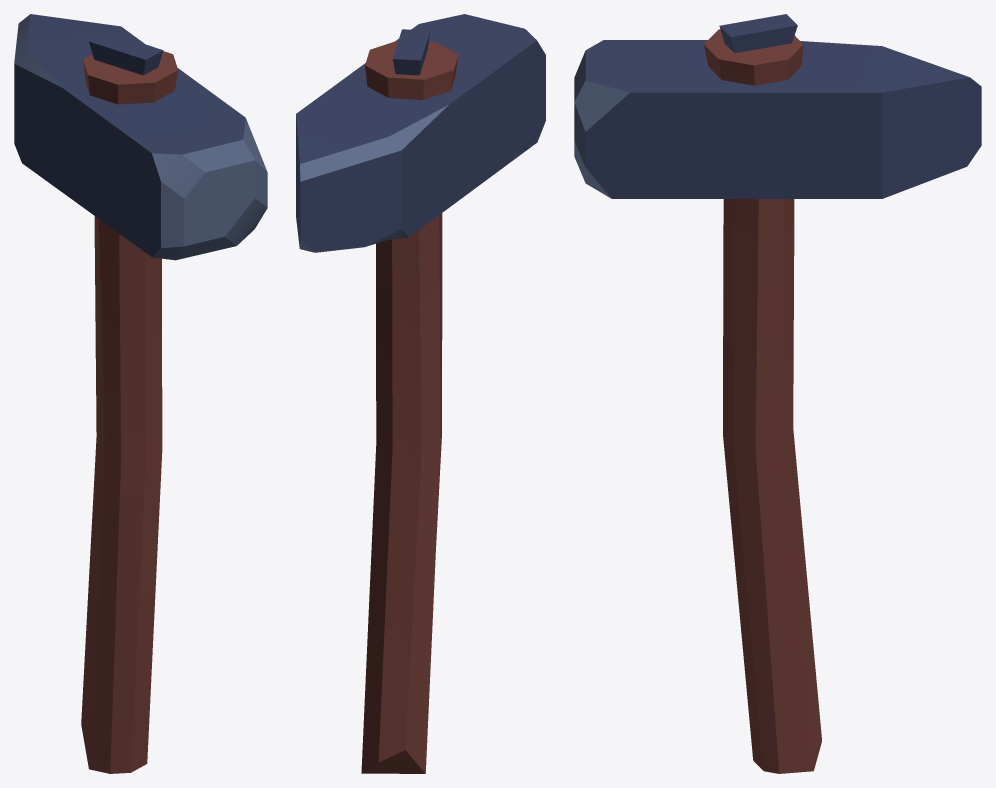
Rendered from Hammer.fbx.
3 renders of one model, left to right at view 1: azimuth 30°, elevation 25°; view 2: azimuth 150°, elevation 25°; view 3: azimuth 270°, elevation 25°, orthographic. The views are drawn at different scales.
Visible parts, largest first — view 1: Hammer 01; view 2: Hammer 01; view 3: Hammer 01.
Boxes of the visible parts, <box> form: Hammer 01: <box>14,14,267,773</box>; Hammer 01: <box>296,14,545,773</box>; Hammer 01: <box>574,14,981,773</box>.
Size of the model in its own units: 12.63 by 81.83 by 41.14.
